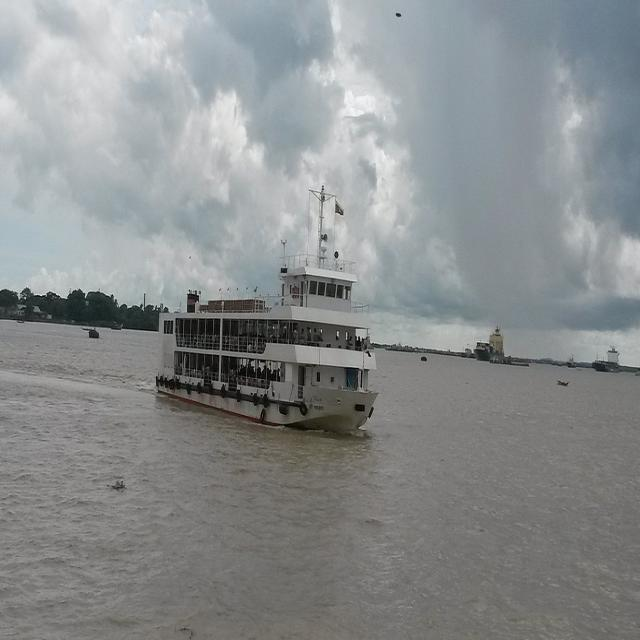passenger ship: (143, 209, 392, 410)
